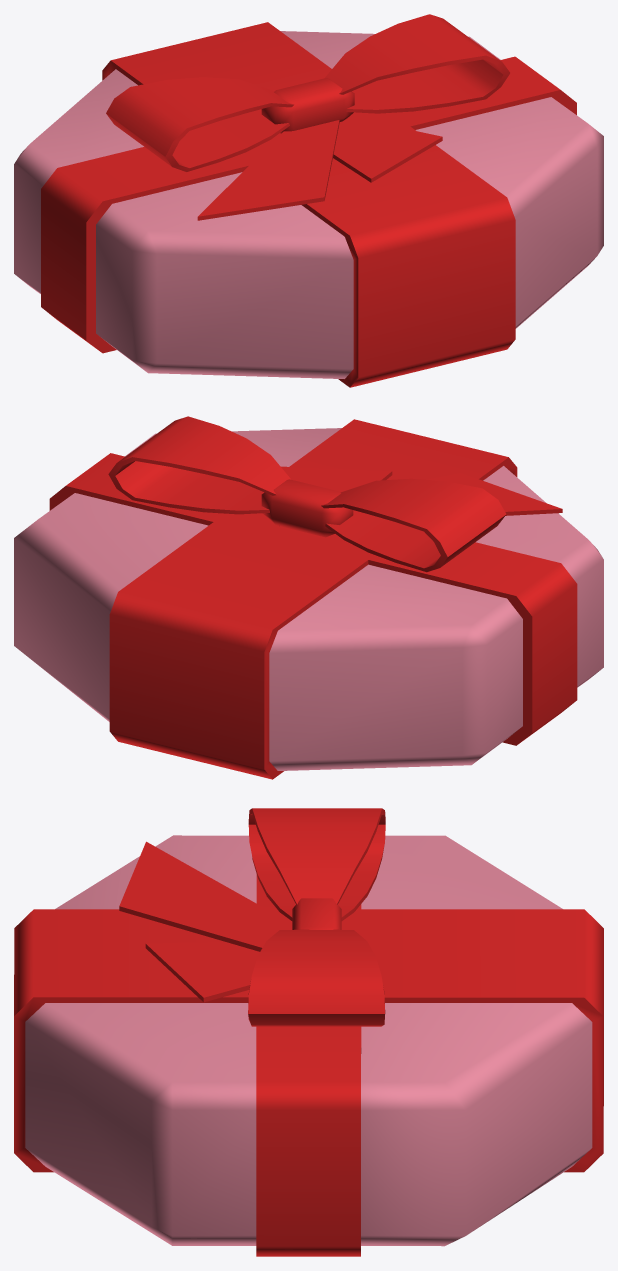
Rendered from Gift_35_231109.glb.
The picture shows the model from 3 angles, top to bottom: view 1: azimuth 30°, elevation 25°; view 2: azimuth 150°, elevation 25°; view 3: azimuth 270°, elevation 25°; orthographic projection. The views are drawn at different scales.
Parts seen in each view (by area): view 1: Gift_35; view 2: Gift_35; view 3: Gift_35.
Part boxes in pixels (x1=…): Gift_35: x1=14, y1=14, x2=603, y2=387; Gift_35: x1=14, y1=416, x2=603, y2=779; Gift_35: x1=14, y1=808, x2=603, y2=1256.
Size of the model in its own units: 0.9042 by 0.3652 by 0.8196.
Materials: 1 (1 with a texture image).
